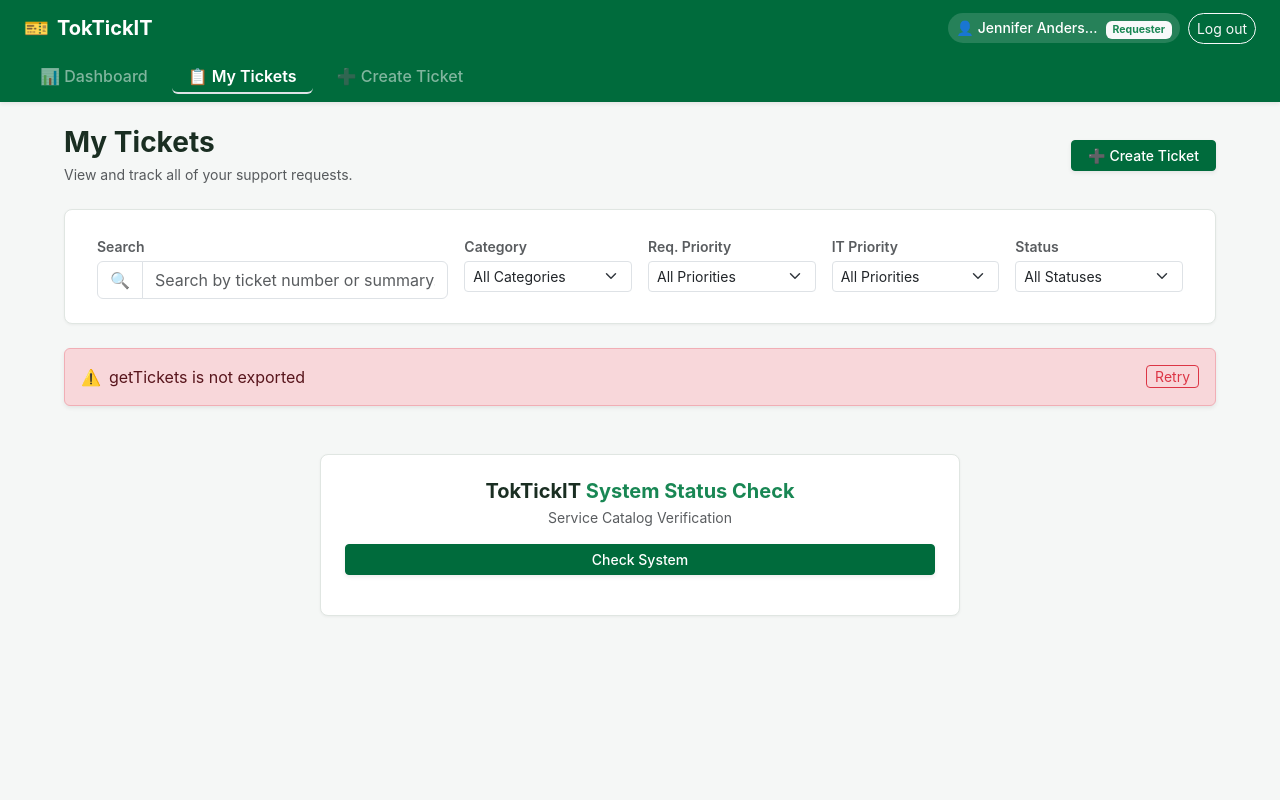
Scenario: App › shows Online and the seeded categories on success
Click the button "Check System". click: click(640, 559)
box: x1=345 y1=544 x2=935 y2=575
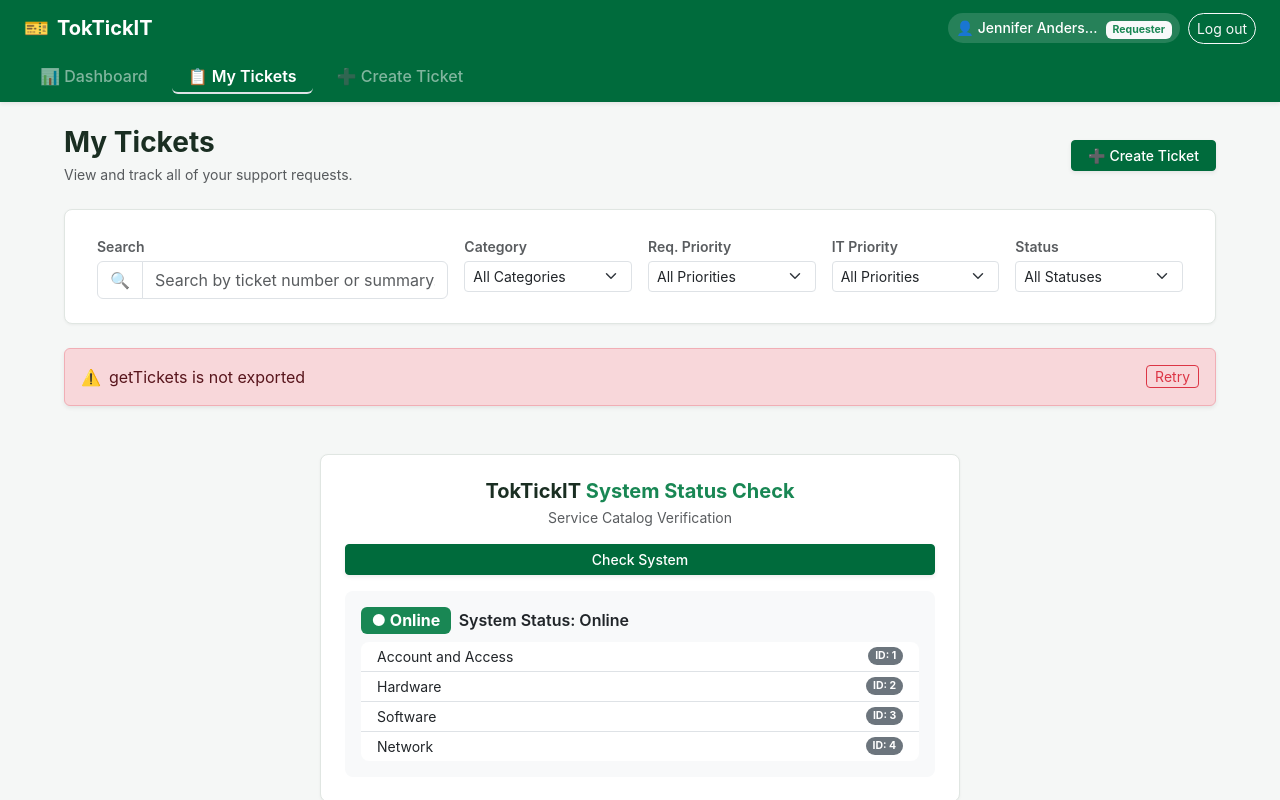
Expected: the heading "System Status: Online" is shown, x1=459 y1=611 x2=629 y2=630
Expected: the text "Account and Access" is shown, x1=377 y1=646 x2=513 y2=667
Expected: the text "Hardware" is shown, x1=377 y1=676 x2=441 y2=697
